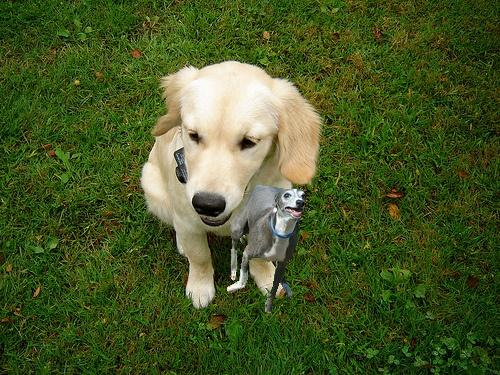tampered: (228, 186, 306, 313)
